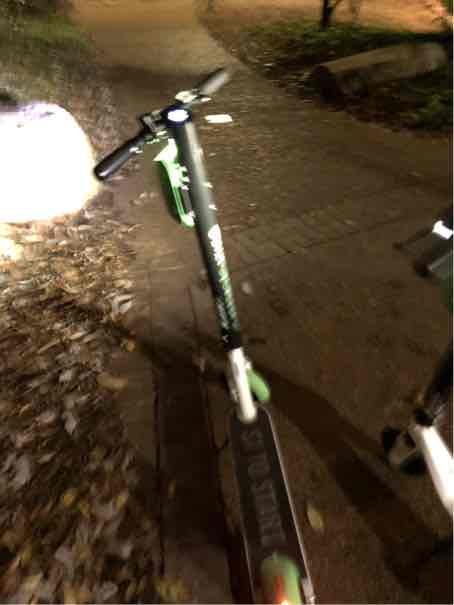scooter: (91, 64, 326, 605)
